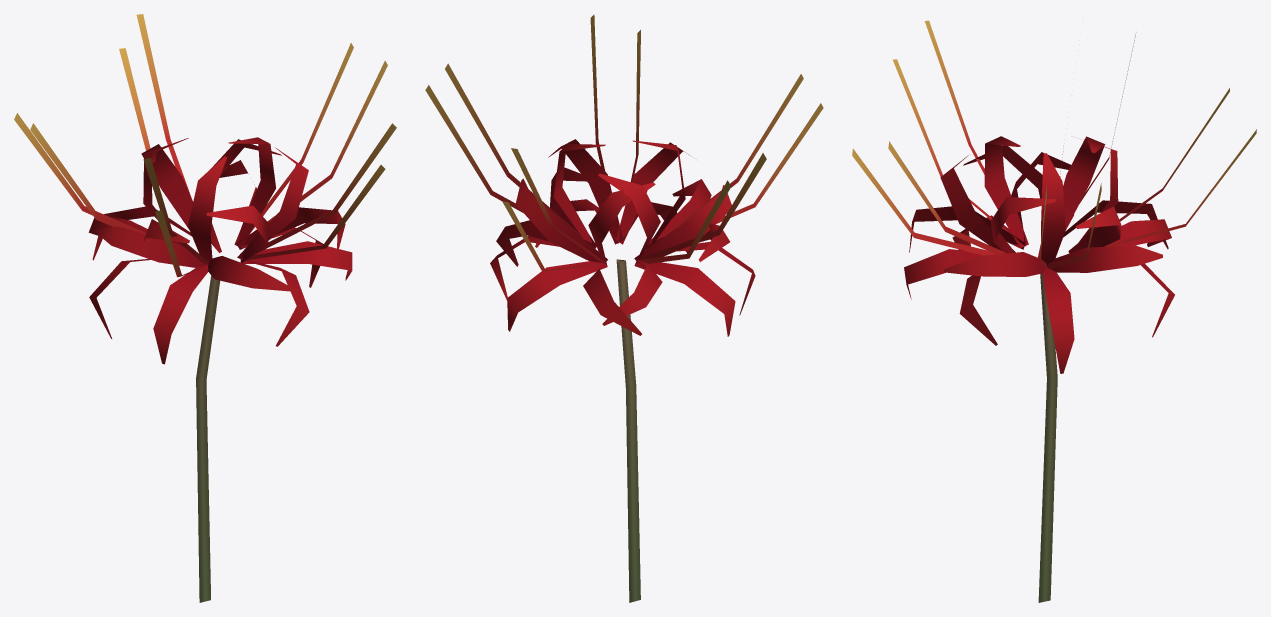
Rendered from spiderlily.glb.
3 renders of one model, left to right at view 1: azimuth 30°, elevation 25°; view 2: azimuth 150°, elevation 25°; view 3: azimuth 270°, elevation 25°, orthographic. The views are drawn at different scales.
Visible parts, largest first — view 1: spiderlily; view 2: spiderlily; view 3: spiderlily.
Part boxes in pixels (x1,y1,x2,y2): spiderlily: (14, 14, 396, 602); spiderlily: (425, 14, 823, 602); spiderlily: (852, 20, 1256, 602).
Bounding box in the file's own units: 0.5081 × 0.7318 × 0.5112.
